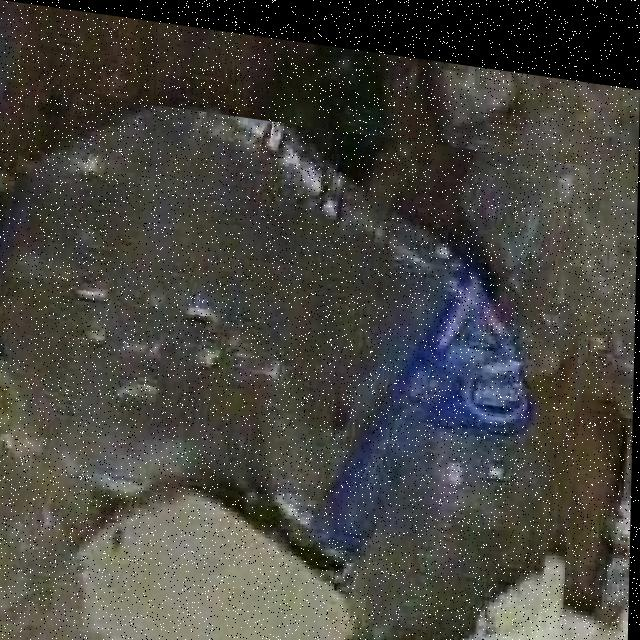litter: (0, 83, 592, 640)
